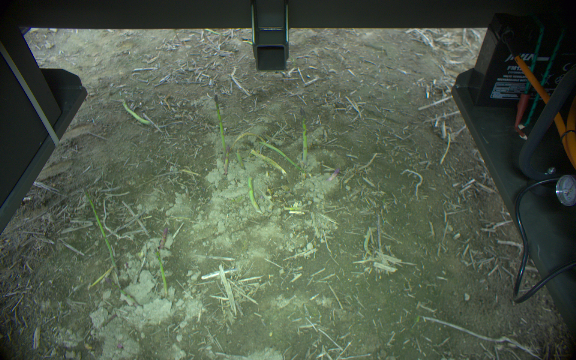aspa: (75, 187, 122, 291), (260, 136, 301, 173), (213, 94, 231, 175), (149, 245, 171, 304), (250, 146, 284, 176), (297, 108, 311, 173), (120, 100, 152, 128), (244, 176, 260, 213), (360, 226, 376, 258), (282, 205, 312, 217), (326, 165, 341, 183), (233, 148, 245, 169), (157, 226, 168, 248)
